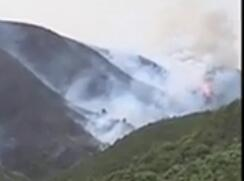yanwu: (63, 1, 241, 149)
